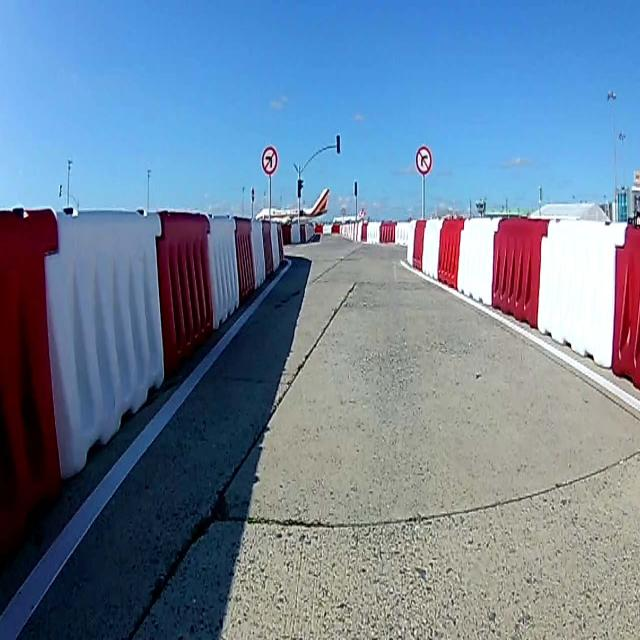sagadonulmez: (415, 146, 433, 175)
soladonulmez: (261, 147, 278, 174)
